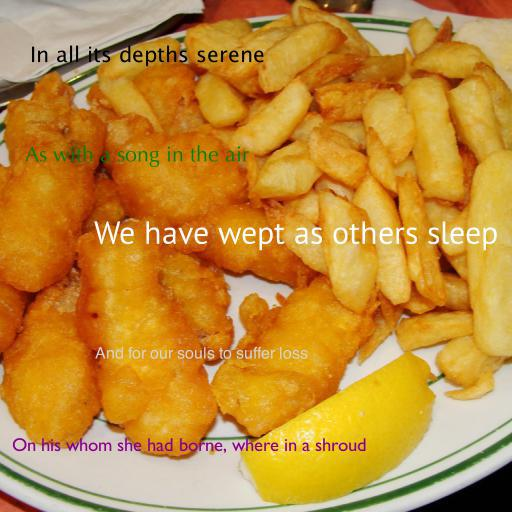Gill Sans: (11, 438, 367, 454)
Lucida Grande: (29, 45, 265, 67)
Optima: (25, 145, 249, 168)
PT Sans: (94, 221, 498, 251)
SignPainter: (94, 346, 308, 359)
